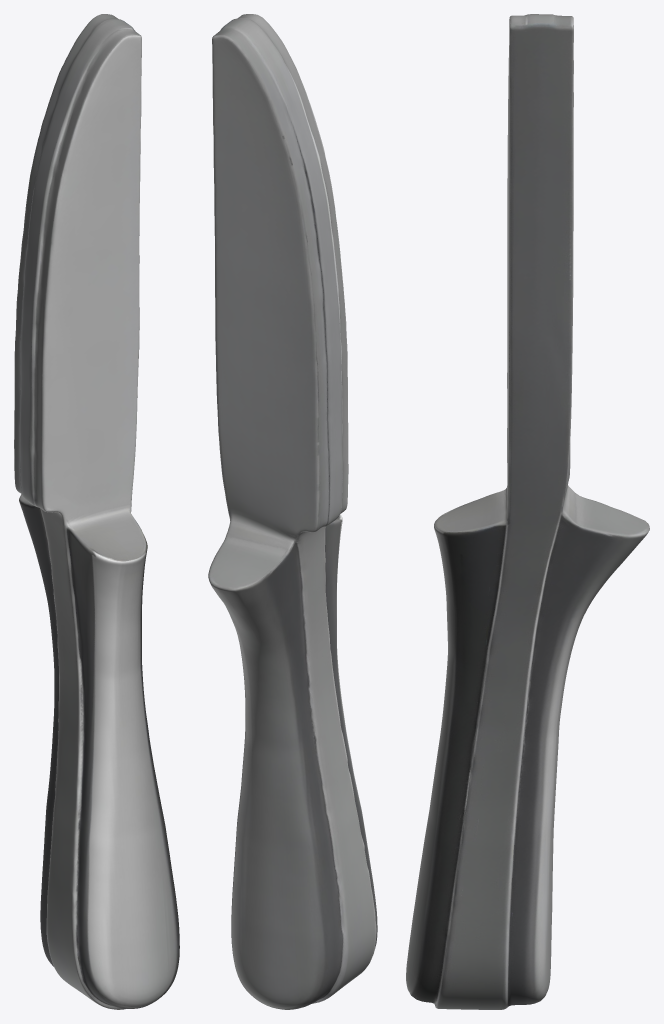
The model's file is model_dinner_knife.glb.
The picture shows the model from 3 angles, left to right: view 1: azimuth 30°, elevation 25°; view 2: azimuth 150°, elevation 25°; view 3: azimuth 270°, elevation 25°; orthographic projection. The views are drawn at different scales.
Parts seen in each view (by area): view 1: tripo_node_439a2917-2ae3-420b-ac37-39c2c16b0d22; view 2: tripo_node_439a2917-2ae3-420b-ac37-39c2c16b0d22; view 3: tripo_node_439a2917-2ae3-420b-ac37-39c2c16b0d22.
Boxes of the visible parts, box(x1,y1,x2,y2) form: tripo_node_439a2917-2ae3-420b-ac37-39c2c16b0d22: box(14, 14, 179, 1009); tripo_node_439a2917-2ae3-420b-ac37-39c2c16b0d22: box(208, 14, 377, 1009); tripo_node_439a2917-2ae3-420b-ac37-39c2c16b0d22: box(406, 14, 649, 1009).
Size of the model in its own units: 0.1229 by 0.9998 by 0.22.
Materials: 1 (1 with a texture image).
